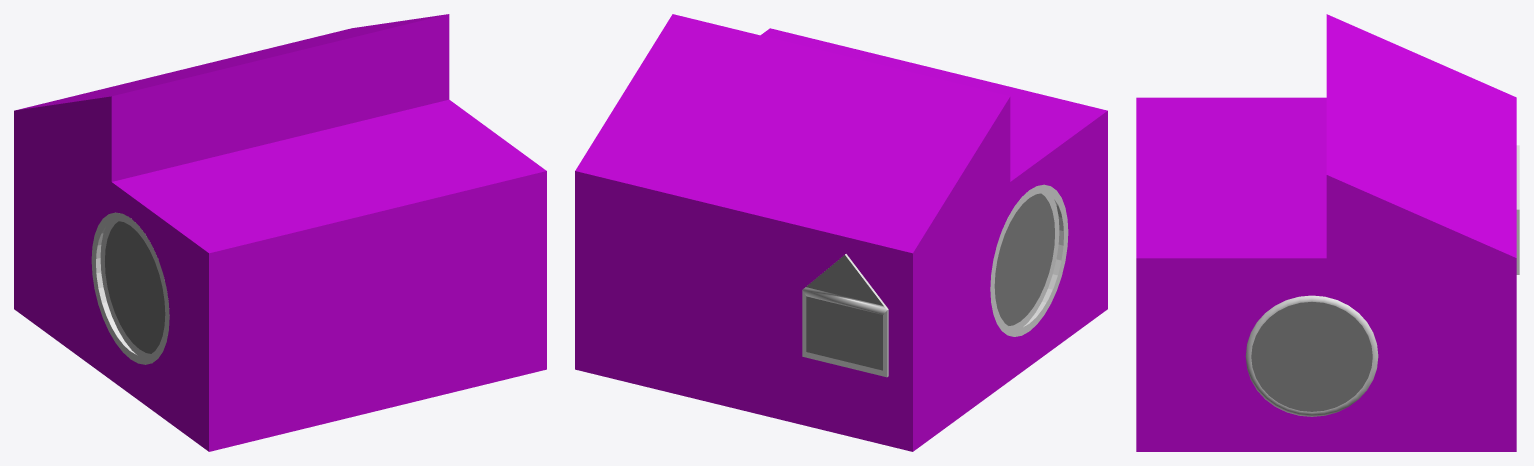
Rendered from segundoPiso.fbx.
3 renders of one model, left to right at view 1: azimuth 30°, elevation 25°; view 2: azimuth 150°, elevation 25°; view 3: azimuth 270°, elevation 25°, orthographic. The views are drawn at different scales.
Parts seen in each view (by area): view 1: Segundo piso.001, cristal_2p_c_2, ventana_2p_c; view 2: Segundo piso.001, crsital_2P_U, cristal_2p_c_2, ventana_2p_c, ventana_2p_U; view 3: Segundo piso.001, cristal_2P_C, ventana_2p_C, ventana_2p_U.
Boxes of the visible parts, x1,y1,x2,y2 form: Segundo piso.001: (14,14,546,451); cristal_2p_c_2: (105,221,165,353); ventana_2p_c: (91,212,169,364); Segundo piso.001: (575,14,1107,451); crsital_2P_U: (806,255,883,370); cristal_2p_c_2: (994,193,1054,325); ventana_2p_c: (990,184,1068,336); ventana_2p_U: (802,254,888,377); Segundo piso.001: (1136,14,1516,451); cristal_2P_C: (1251,302,1372,411); ventana_2p_C: (1245,295,1378,416); ventana_2p_U: (1516,145,1519,274).
Bounding box in the file's own units: 504 × 402 × 504.
